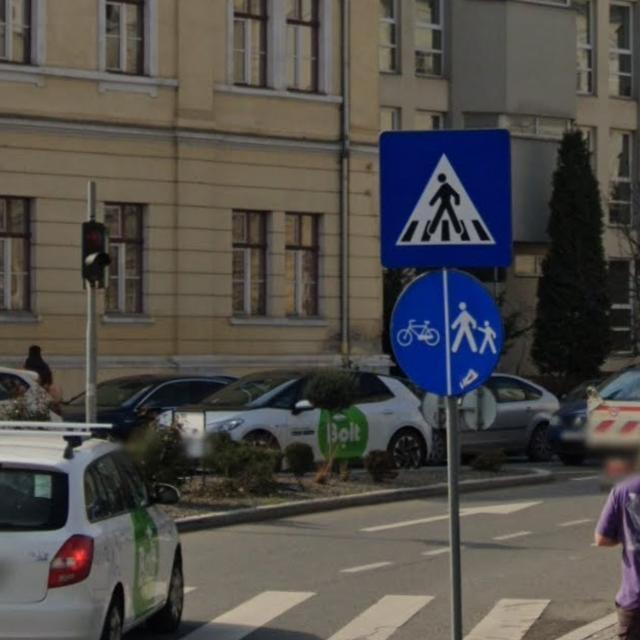info_crosswalk: (378, 128, 515, 266)
